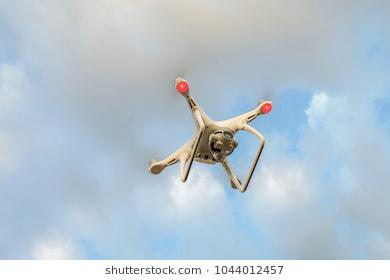drone: (145, 74, 272, 197)
